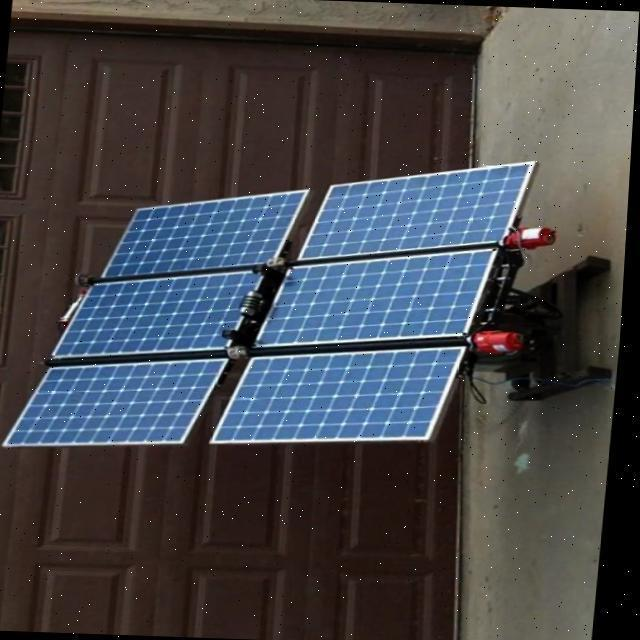Normal Solar Panel: (216, 340, 469, 450), (302, 152, 538, 264), (260, 242, 500, 352), (7, 351, 229, 452), (104, 182, 310, 282), (54, 264, 262, 363)
